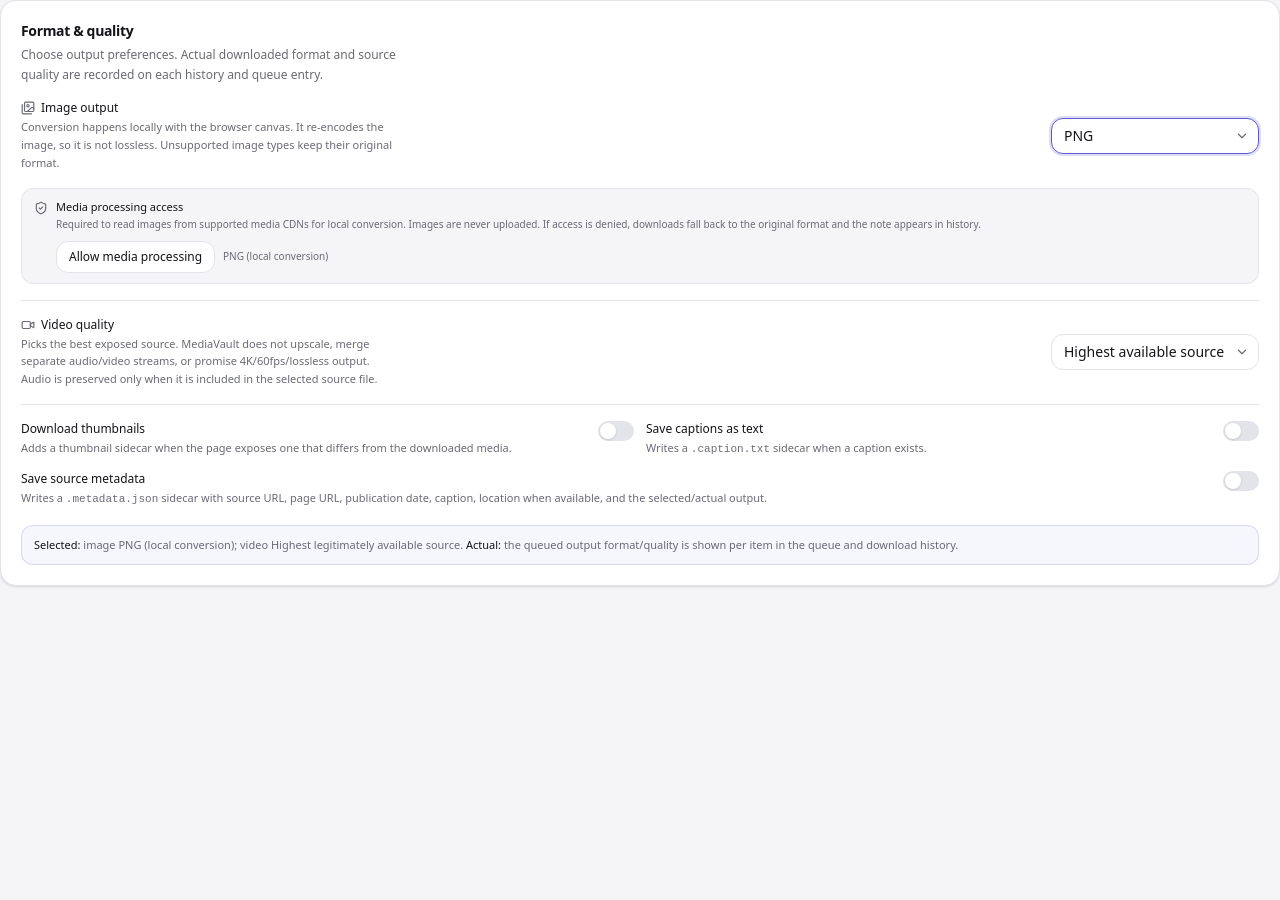
Test: format and quality settings › grants media processing access for local conversion
This screenshot has width=1280, height=900.
Earlier steps of the test are not shown.
Click the button "Allow media processing".
click(136, 257)  # box [56,241,215,273]
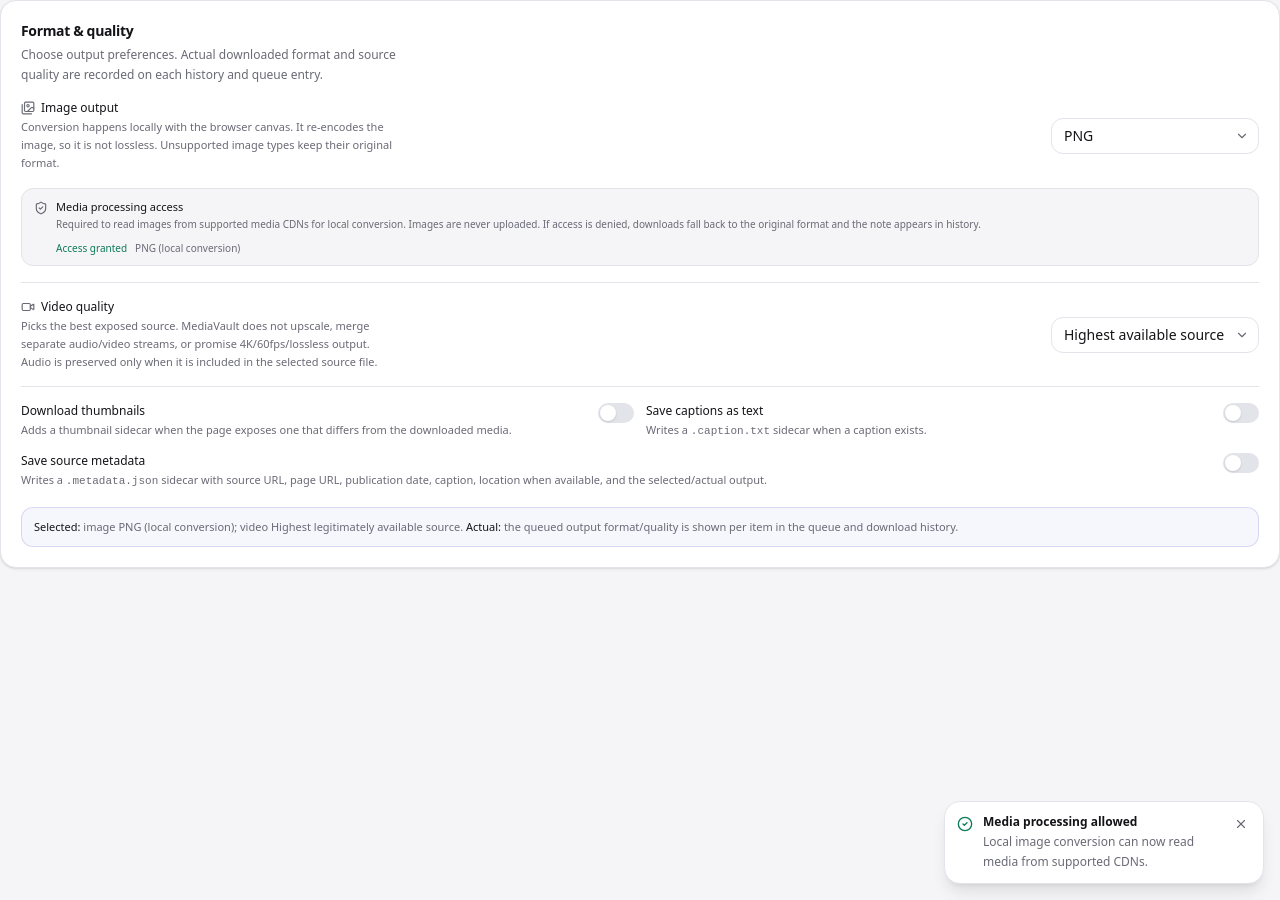
Result: the text "Access granted" is shown at [56,241,127,255]
